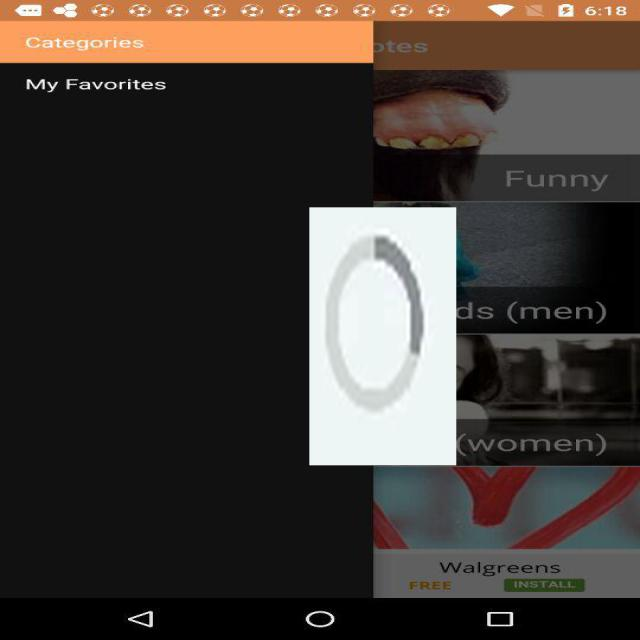misdirection: (309, 208, 456, 466)
